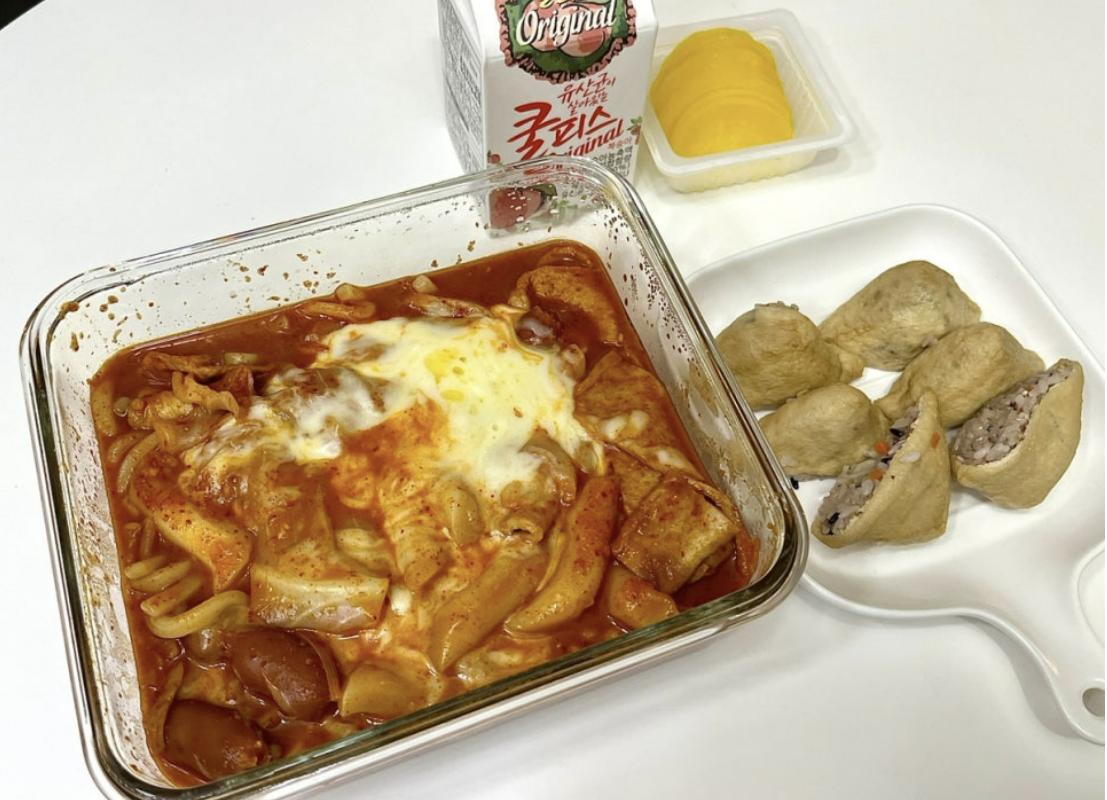Lunch Box: (22, 159, 805, 799), (688, 206, 1106, 744)
